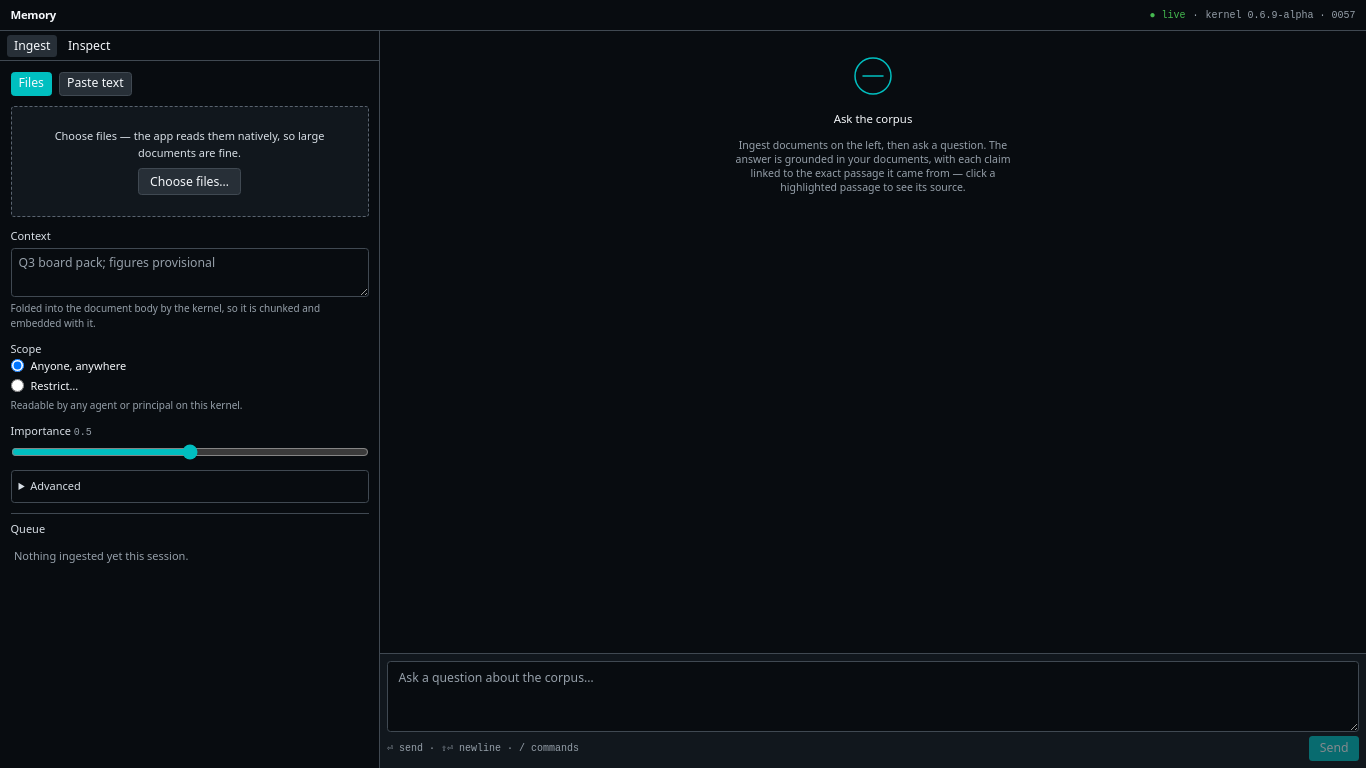
Test: MemoryPage — ingest › stages a picked file without sending it, and never reads its bytes
Click the button with aria-label "Choose files to ingest" at (189, 182), box left=138, top=168, right=240, bottom=195
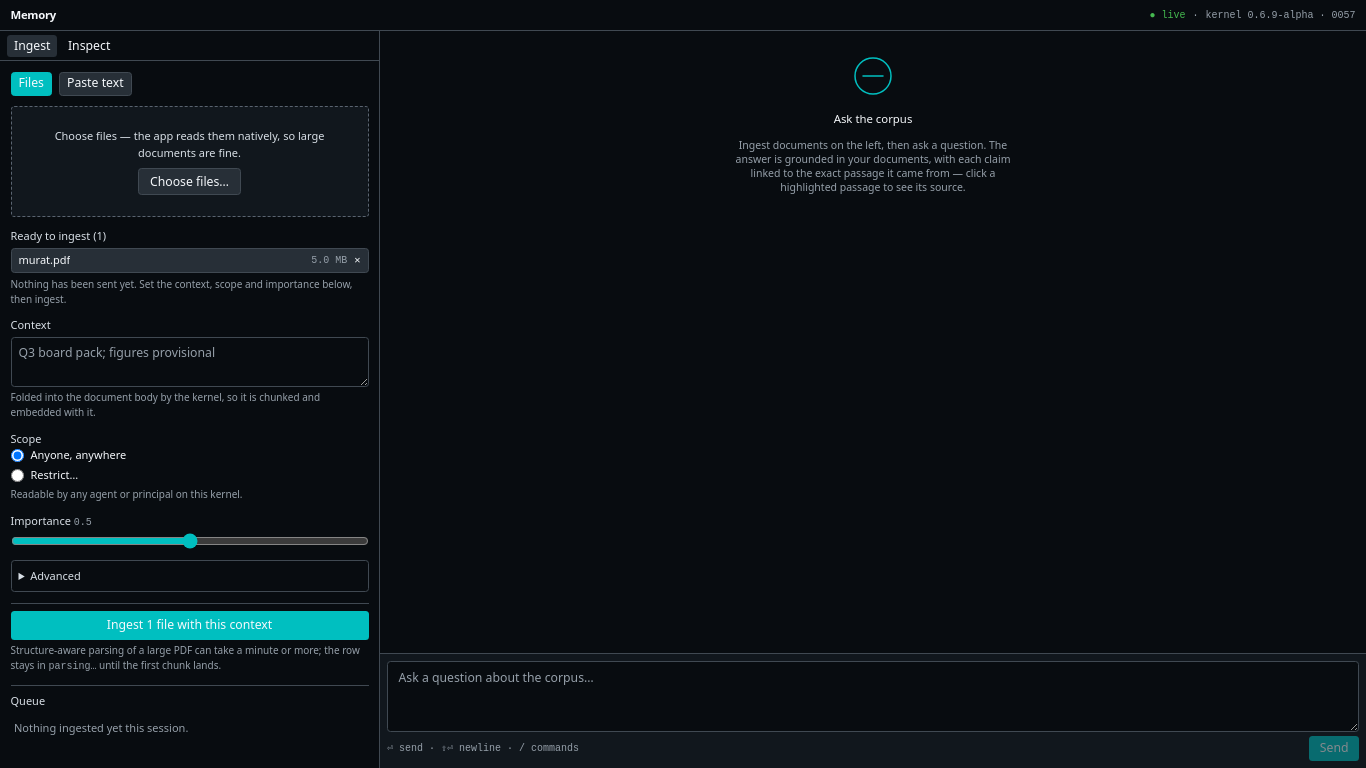
Expected: the heading "Ready to ingest (1)" is shown, left=10, top=228, right=106, bottom=243
